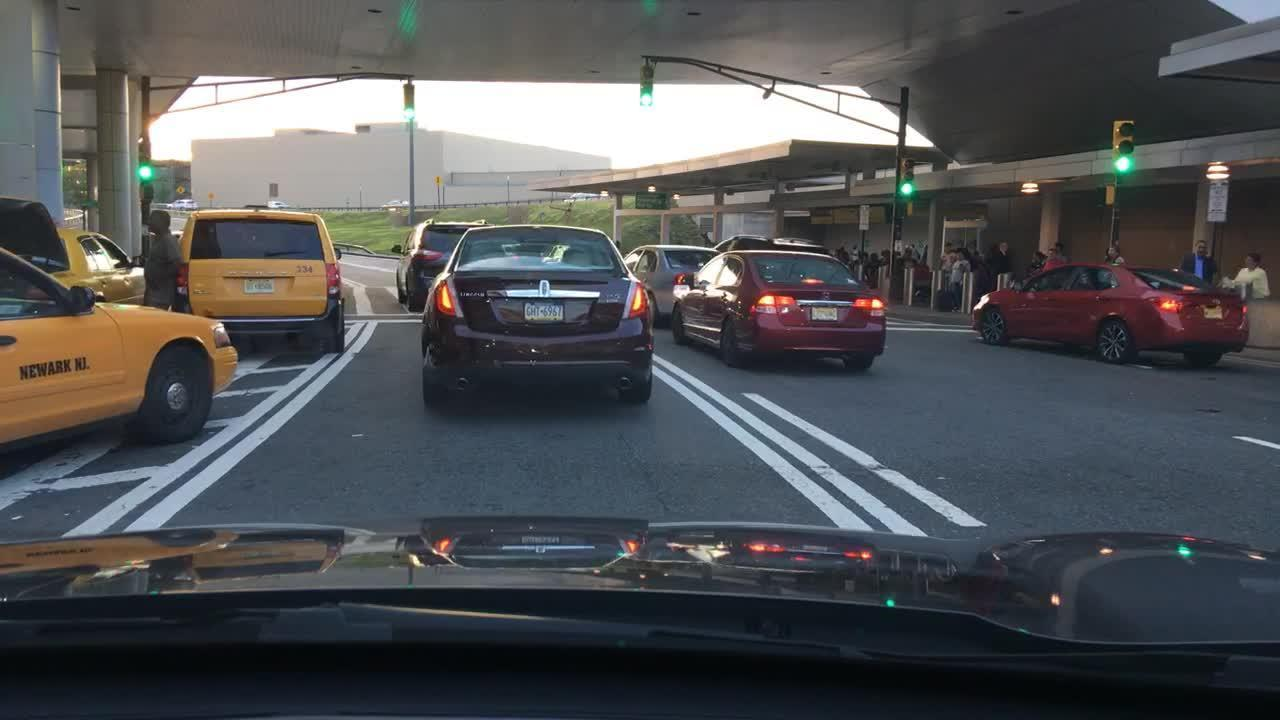lincoln: (539, 278, 552, 299)
